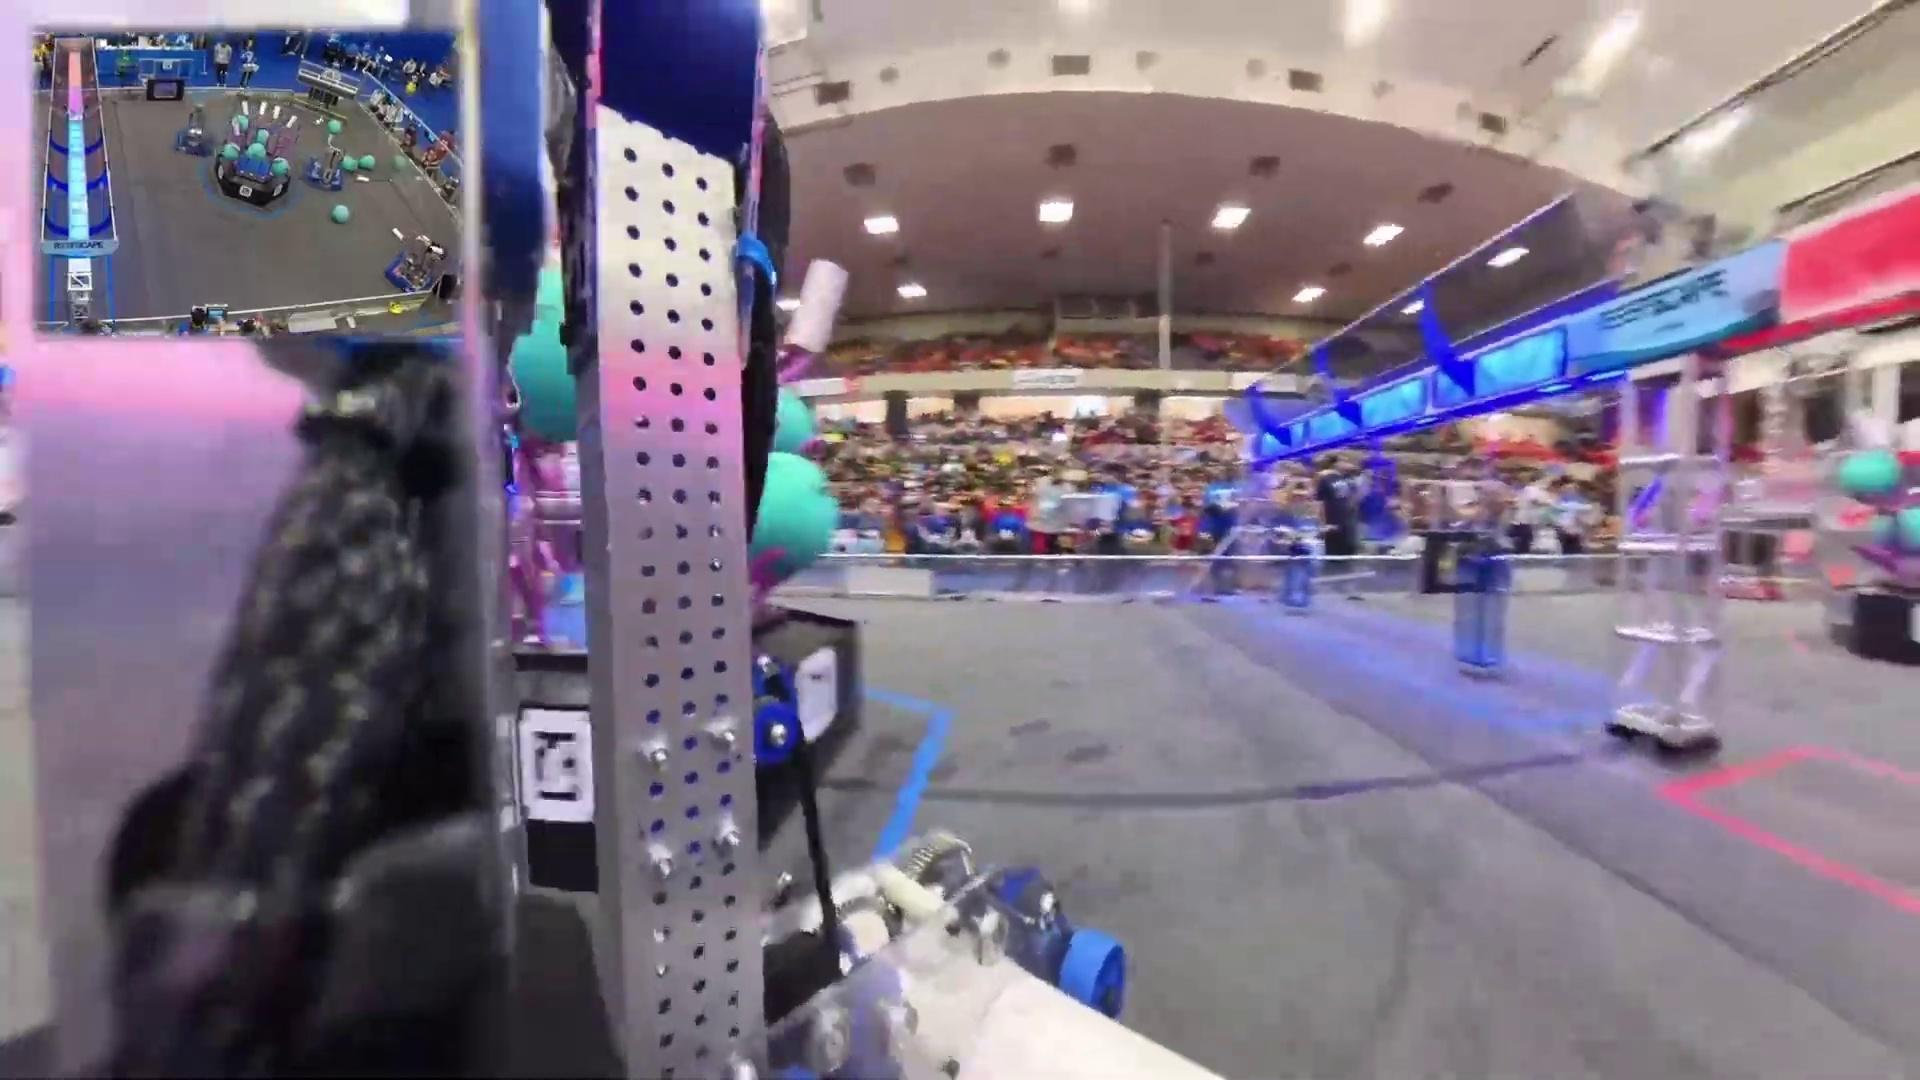robot: (385, 232, 454, 294), (170, 103, 215, 161), (302, 144, 345, 195), (1721, 572, 1789, 604)
